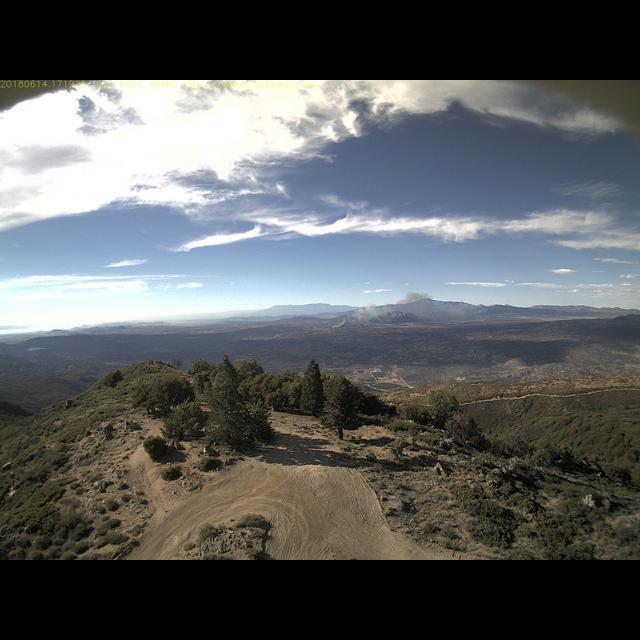Smoke: (331, 288, 440, 331)
